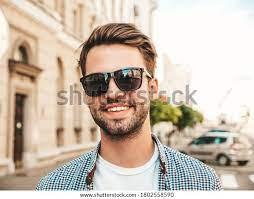sunglasses: (79, 65, 149, 99)
